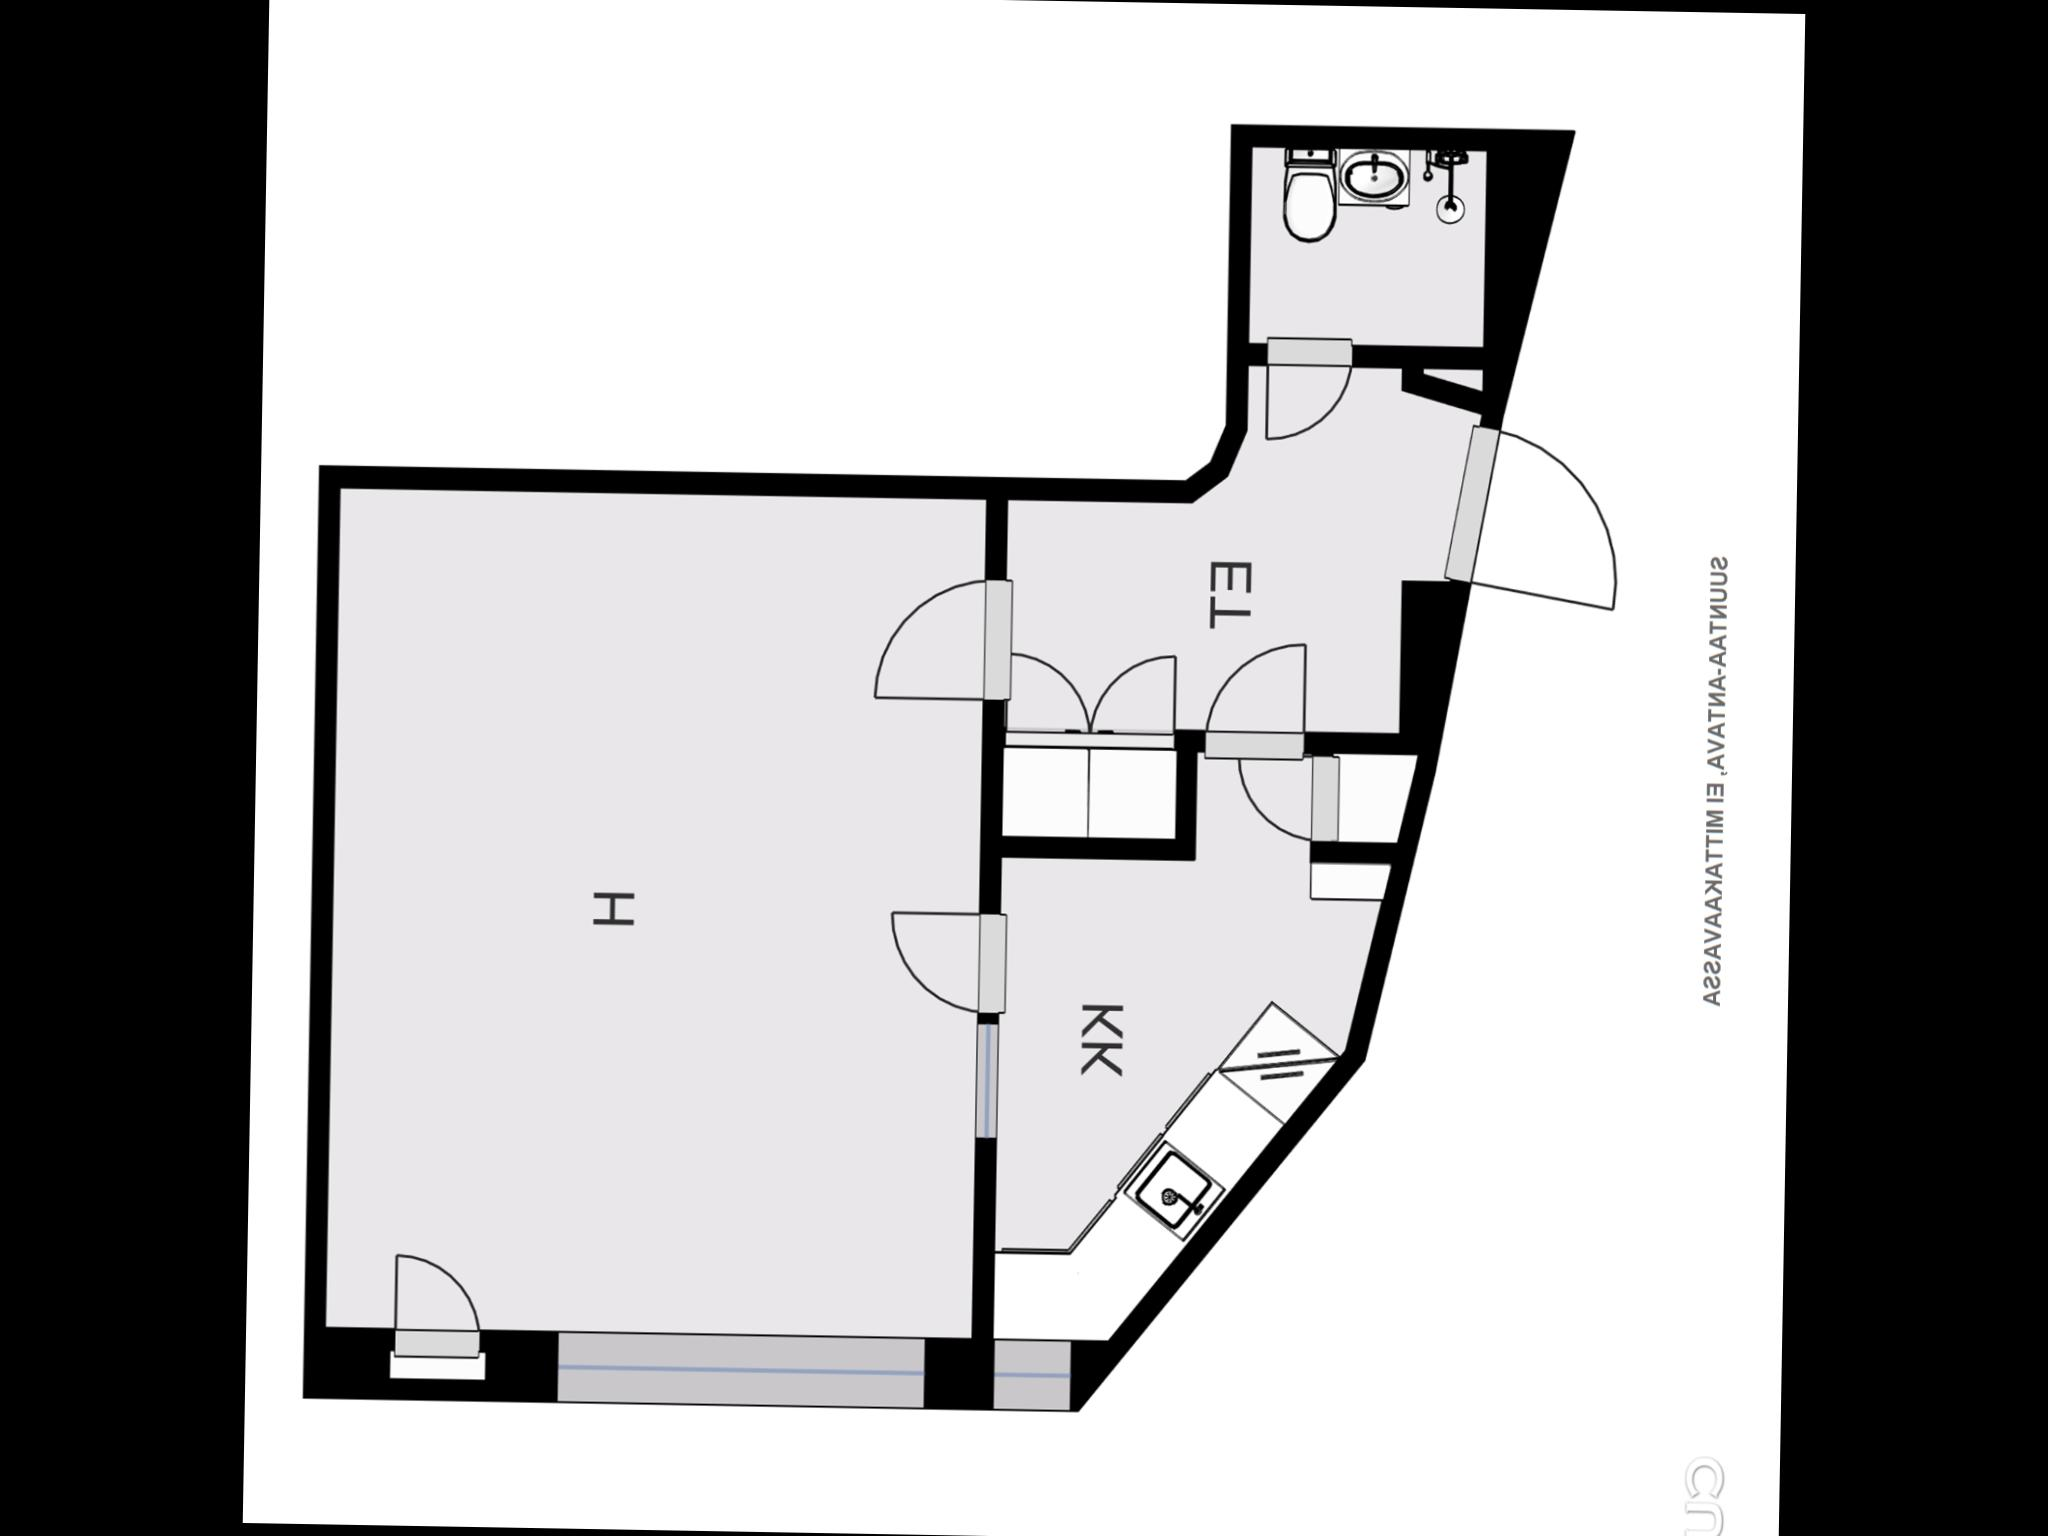door: (1443, 415, 1629, 628), (866, 565, 1027, 713), (1195, 621, 1316, 766), (884, 899, 1016, 1020), (384, 1242, 495, 1386), (1261, 326, 1359, 457), (1230, 747, 1348, 847), (1084, 639, 1182, 753), (998, 642, 1092, 745)
window: (526, 1312, 939, 1430), (977, 1329, 1090, 1421), (961, 1008, 1014, 1155)
